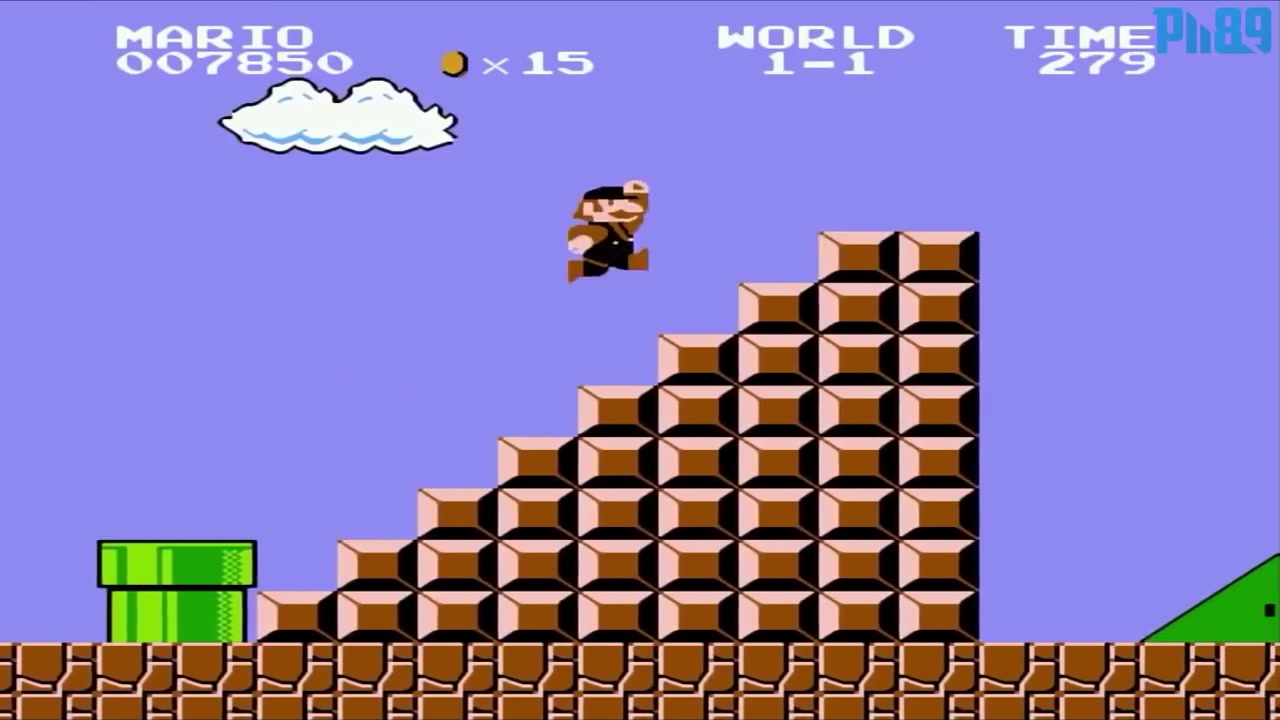mario: (543, 170, 672, 280)
